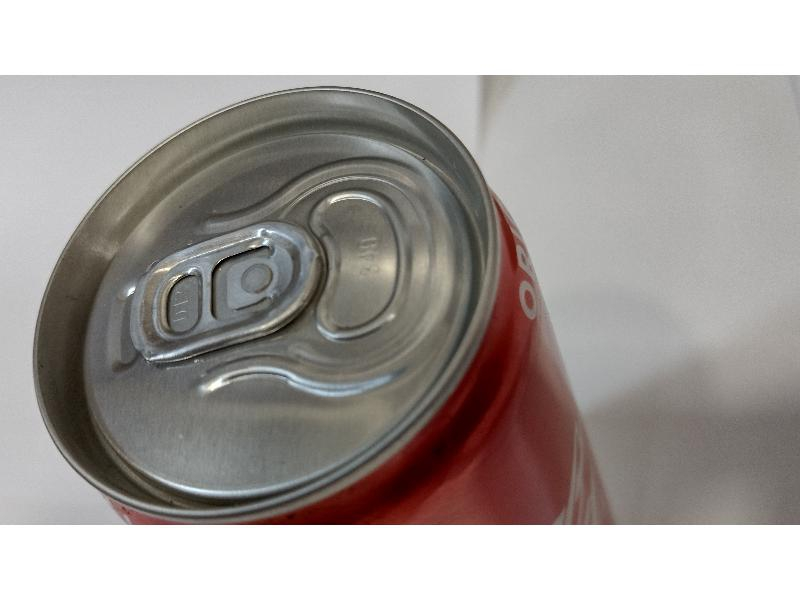can: (21, 73, 621, 515)
